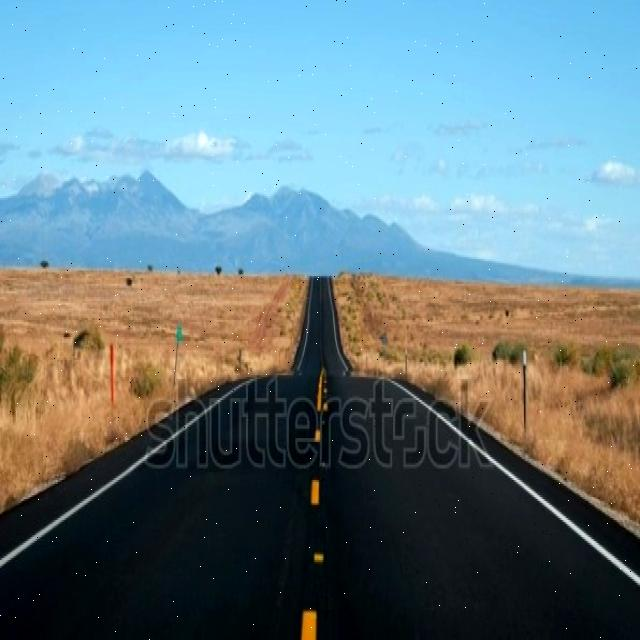lane: (301, 610, 316, 638), (310, 478, 319, 505), (312, 550, 323, 562)
road: (0, 276, 639, 636)
